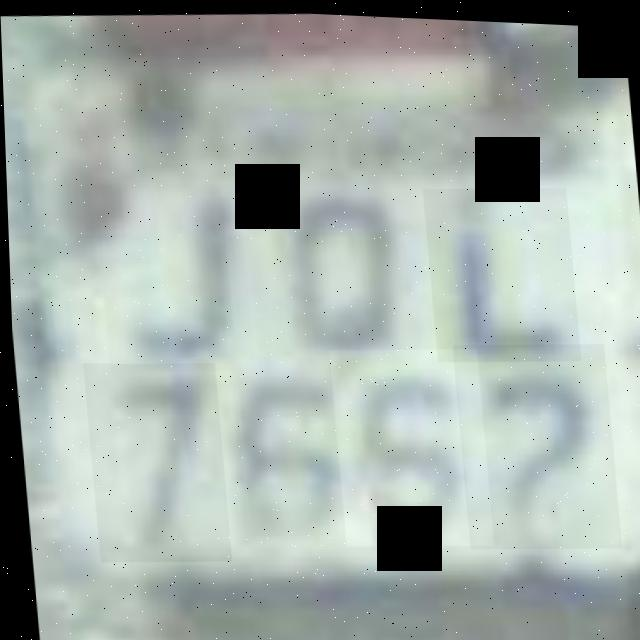2: (449, 333, 618, 551)
6: (200, 338, 364, 567), (327, 340, 490, 548)
7: (80, 356, 228, 568)
J: (93, 177, 252, 376), (421, 178, 579, 363)
